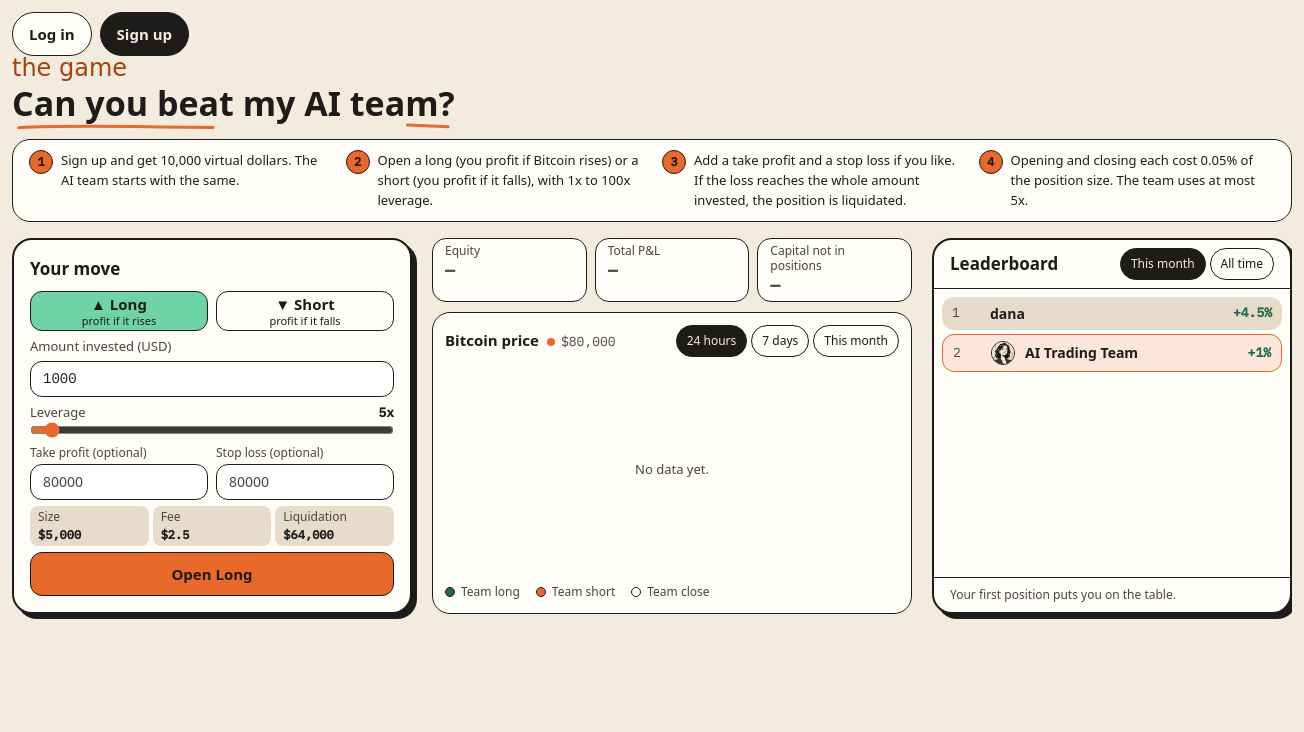
a wrong password says so, the right one shows the account and the header menu
Step 1. Click the button "▲ Long profit if it rises" → (119, 311), box [30,291,208,331]
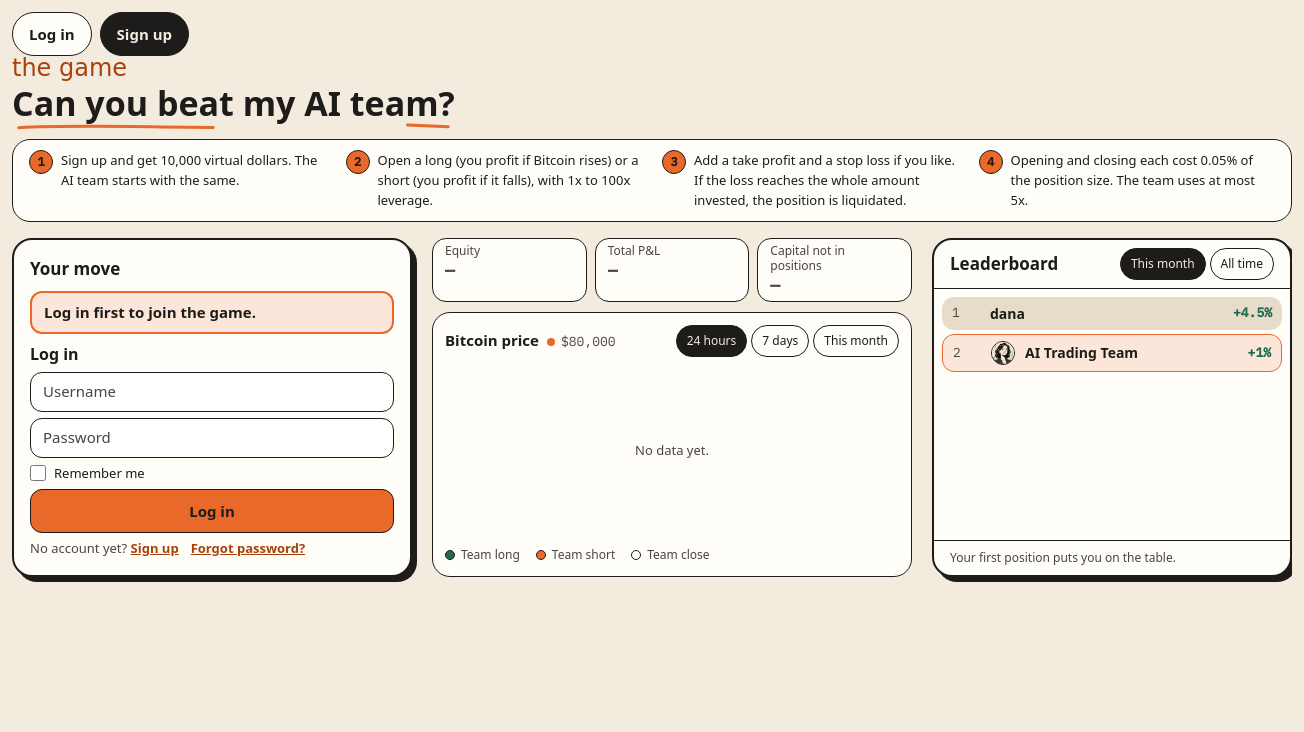
Step 2. Type "satoshi" into the field labelled "Username" → (212, 392), box [30,372,394,412]
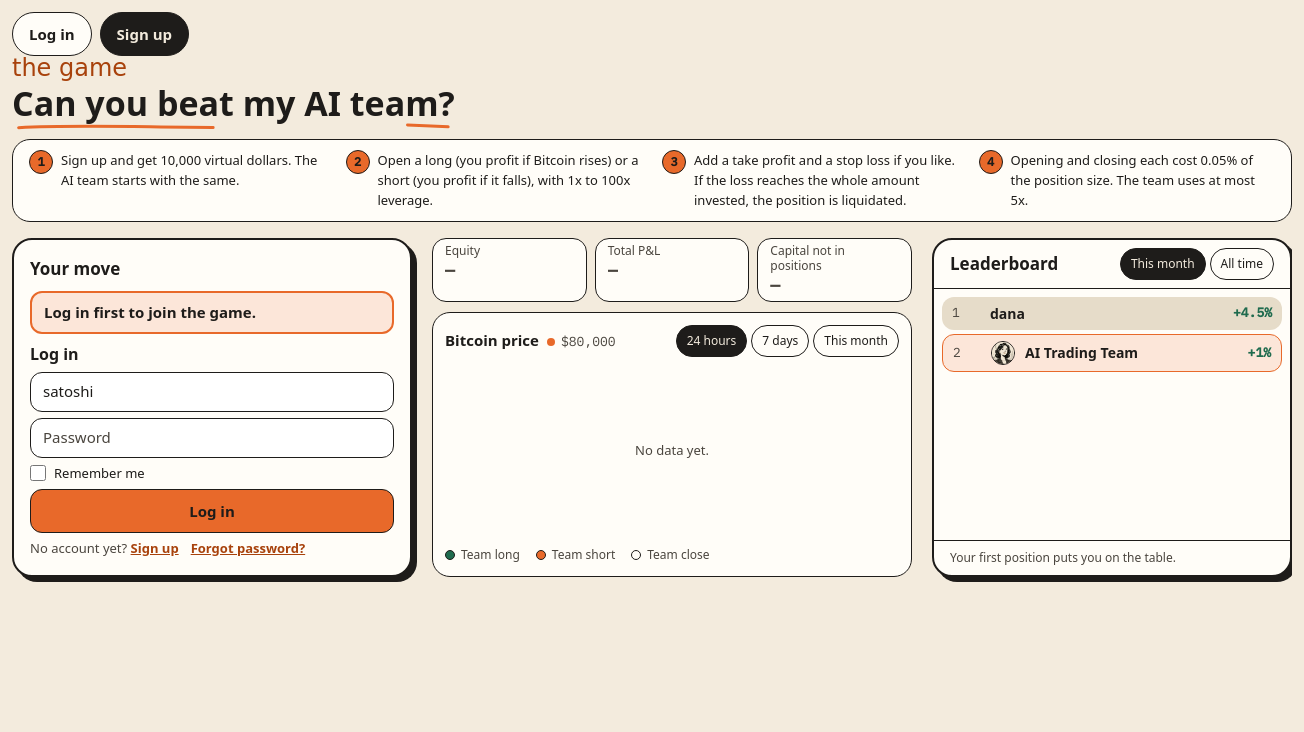
Step 3. Type "nope" into the password field labelled "Password" → (212, 438), box [30,418,394,458]
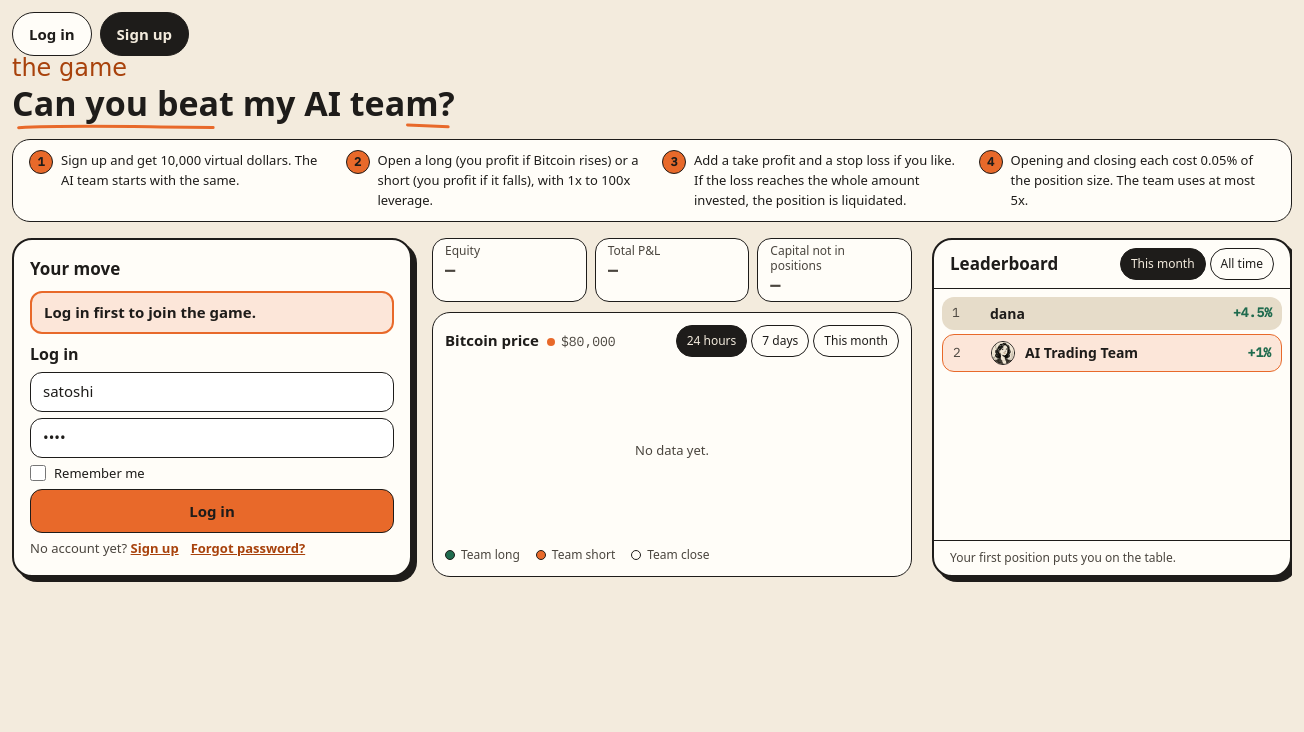
Step 4. Submit the form labelled "password", box [30,342,394,558]
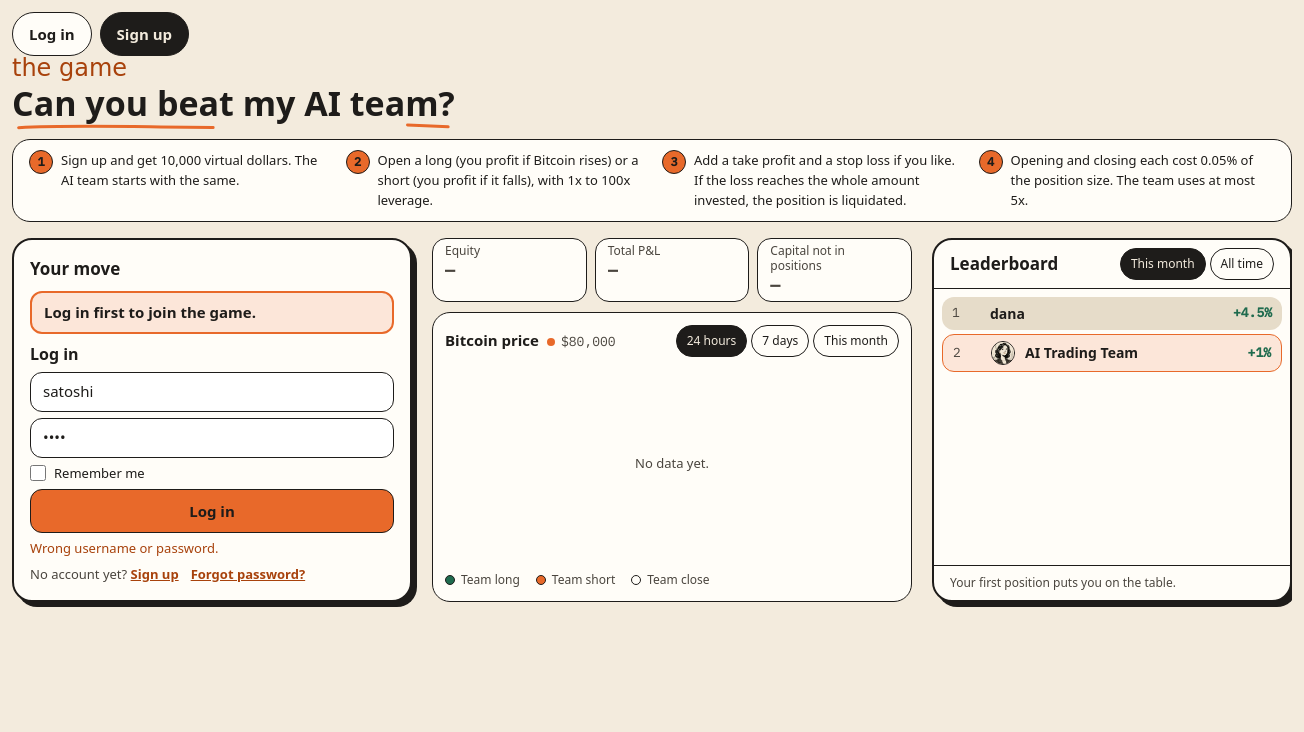
Check: the text "Wrong username or password." is shown, box [30,539,218,557]
Step 5. Submit the form labelled "password", box [30,342,394,584]
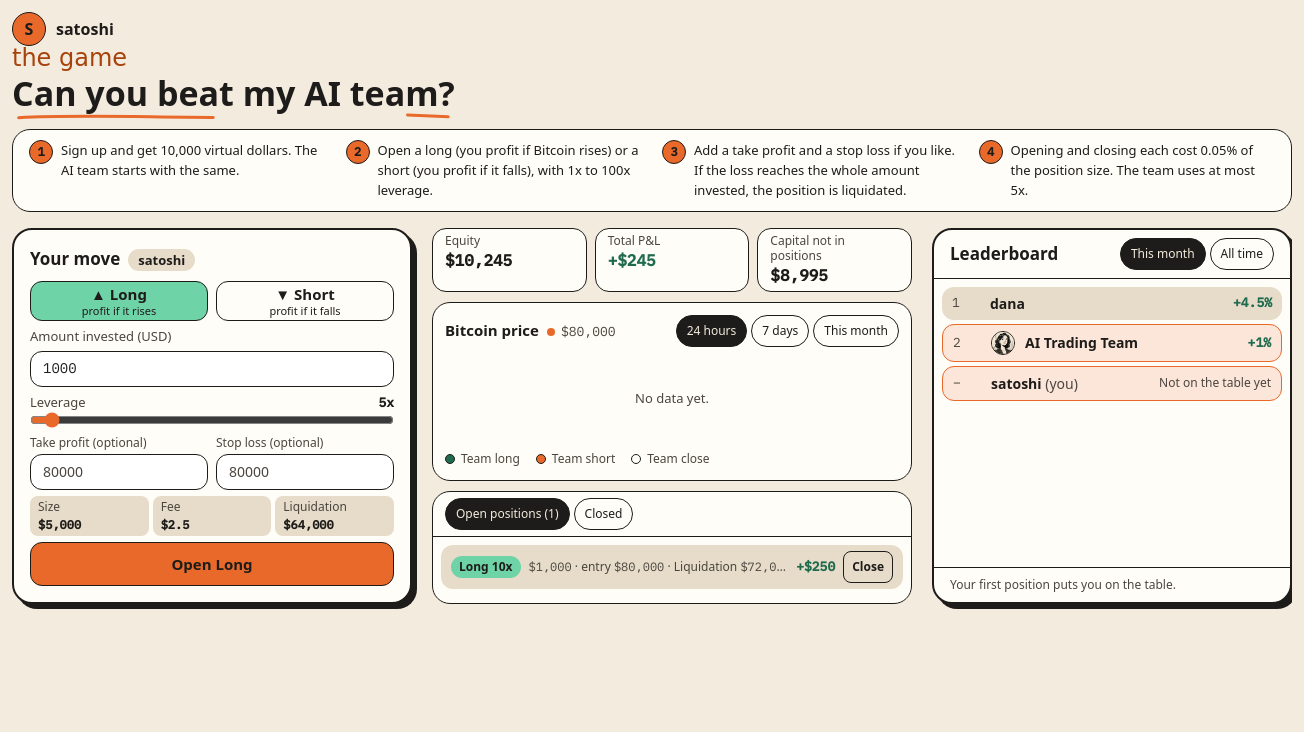
Check: the text "$10,245" is shown, box [445,250,512,270]
Step 6. Click the button with aria-label "Account" → (63, 29), box [12,12,114,46]
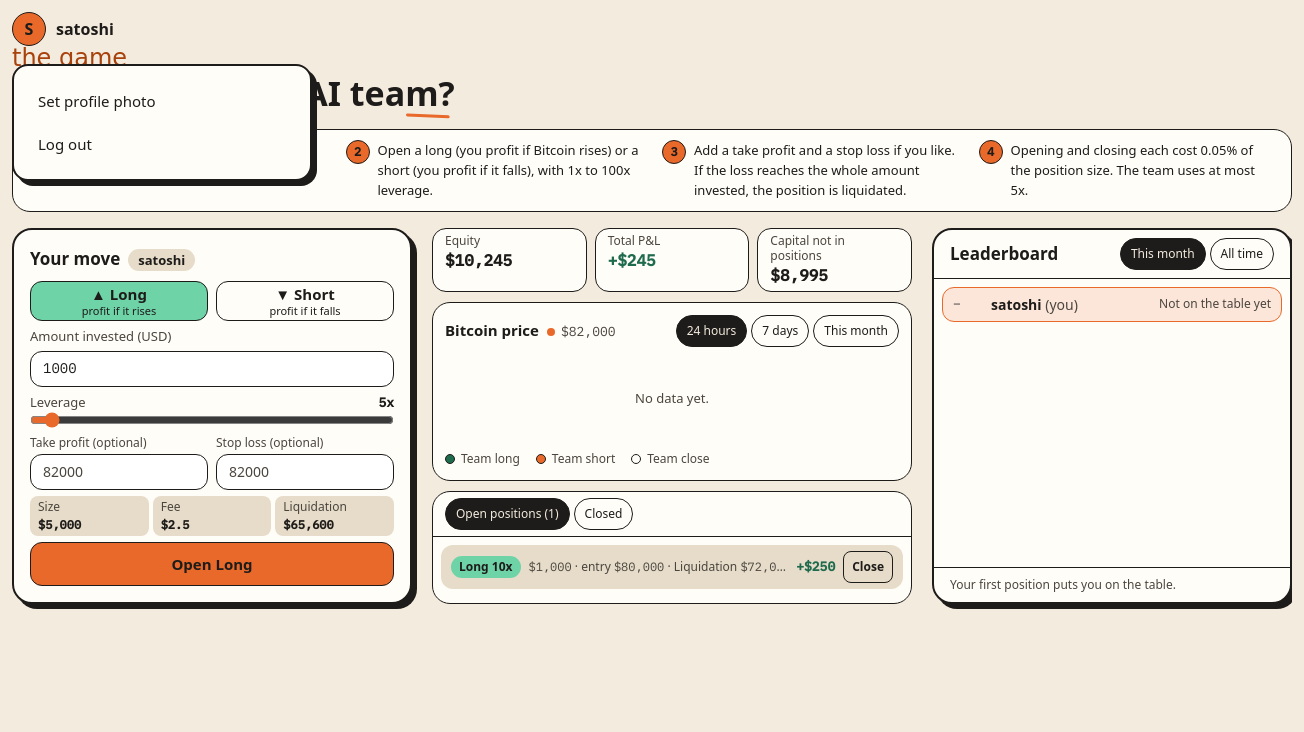
Check: the button "Log out" is shown, box [30,124,294,163]
